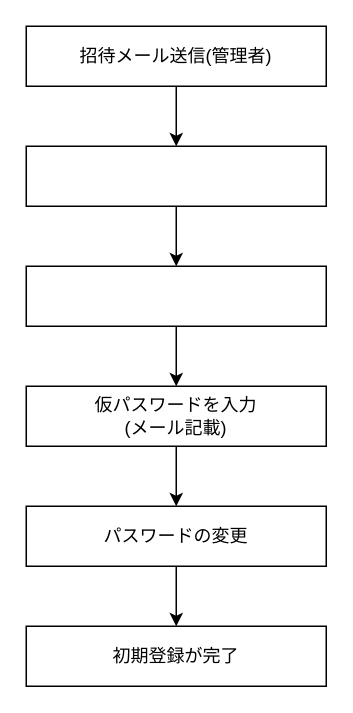
Some shapes in this 353 by 713 pixel diagram are drawn without their labels. The shapes that lost their labels are listed below. From the top down, each one's centre as x and y in pixels, then its label:
At (x=175, y=175): "招待メール受信".
At (x=175, y=295): "メールのURLを開く".
